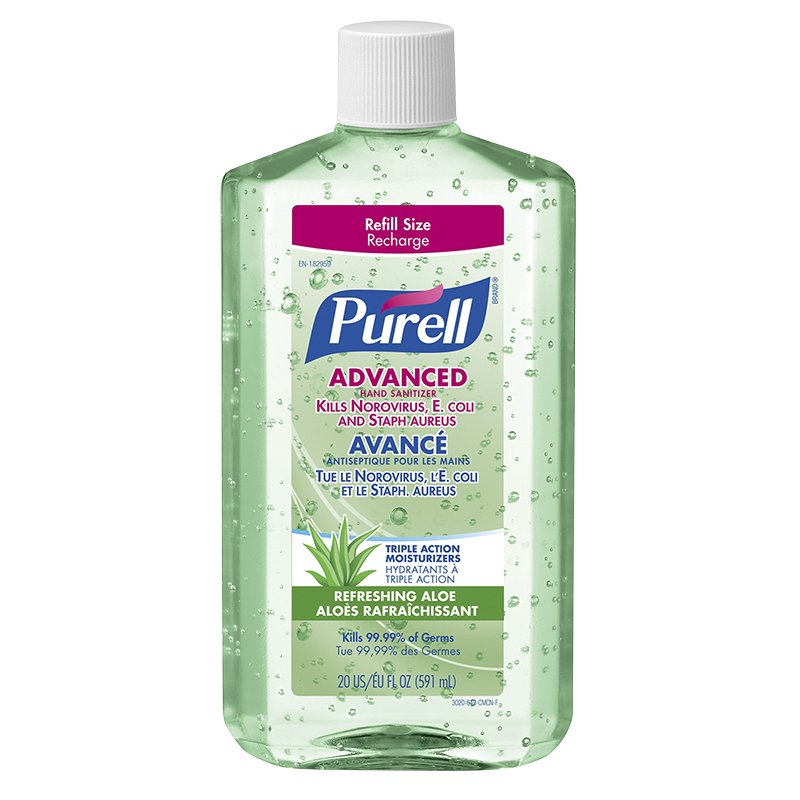Sanitizer: (204, 12, 589, 775)
